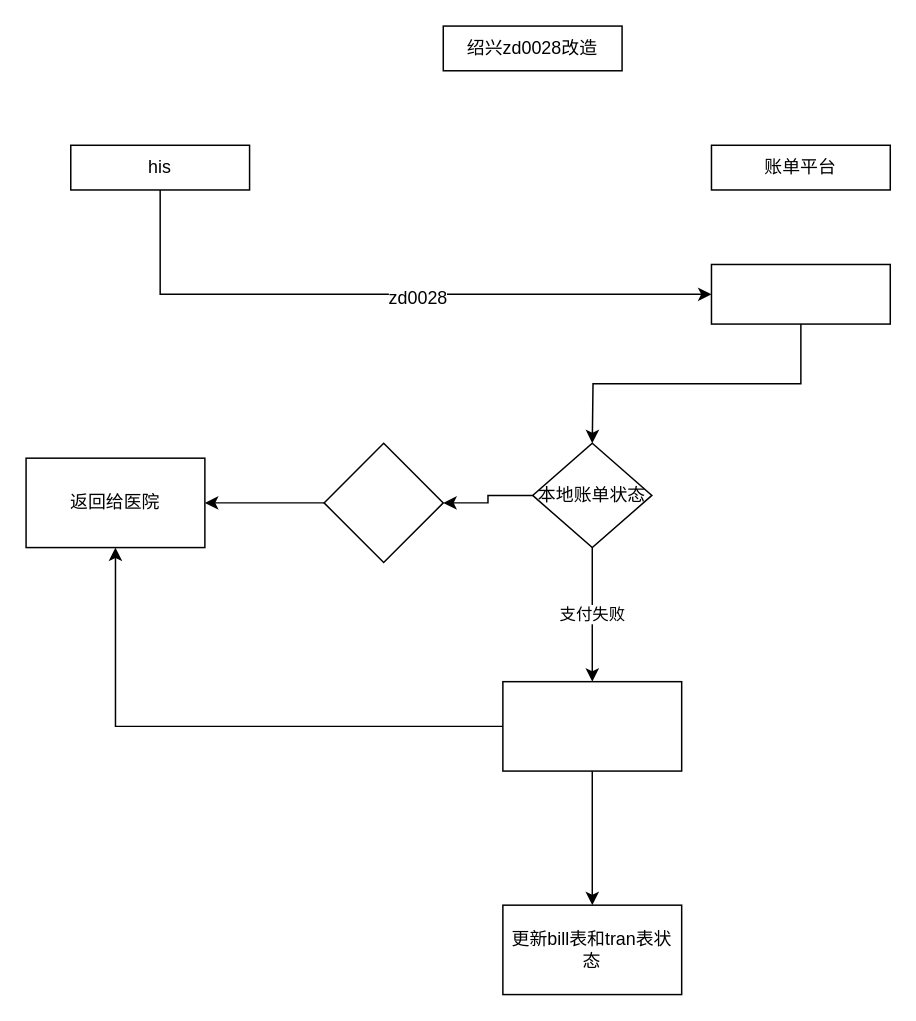
Some shapes in this 916 by 1021 pixel diagram are drawn without their labels. The centre of each missing label's shape, as x and y in pixels:
"查询统一支付平台进行校验" goes at point 591,725.
"账单状态查询" goes at point 800,293.
"退费成功，支付成功，未支付" goes at point 383,502.
